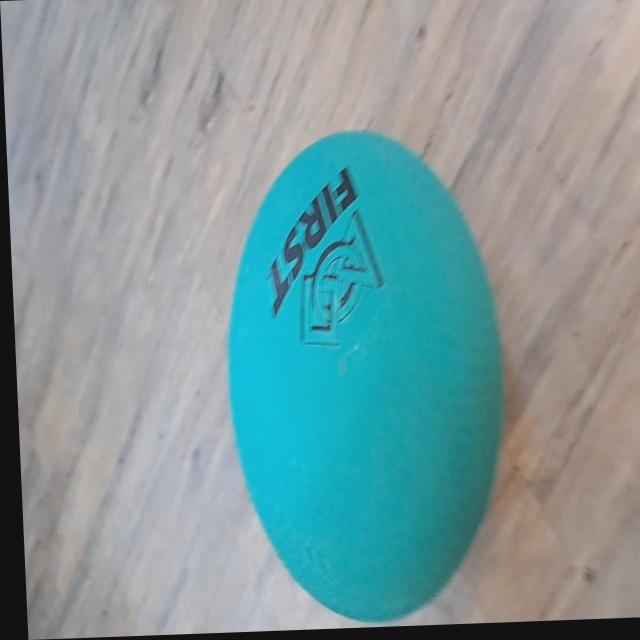ALGAE: (215, 122, 517, 629)
